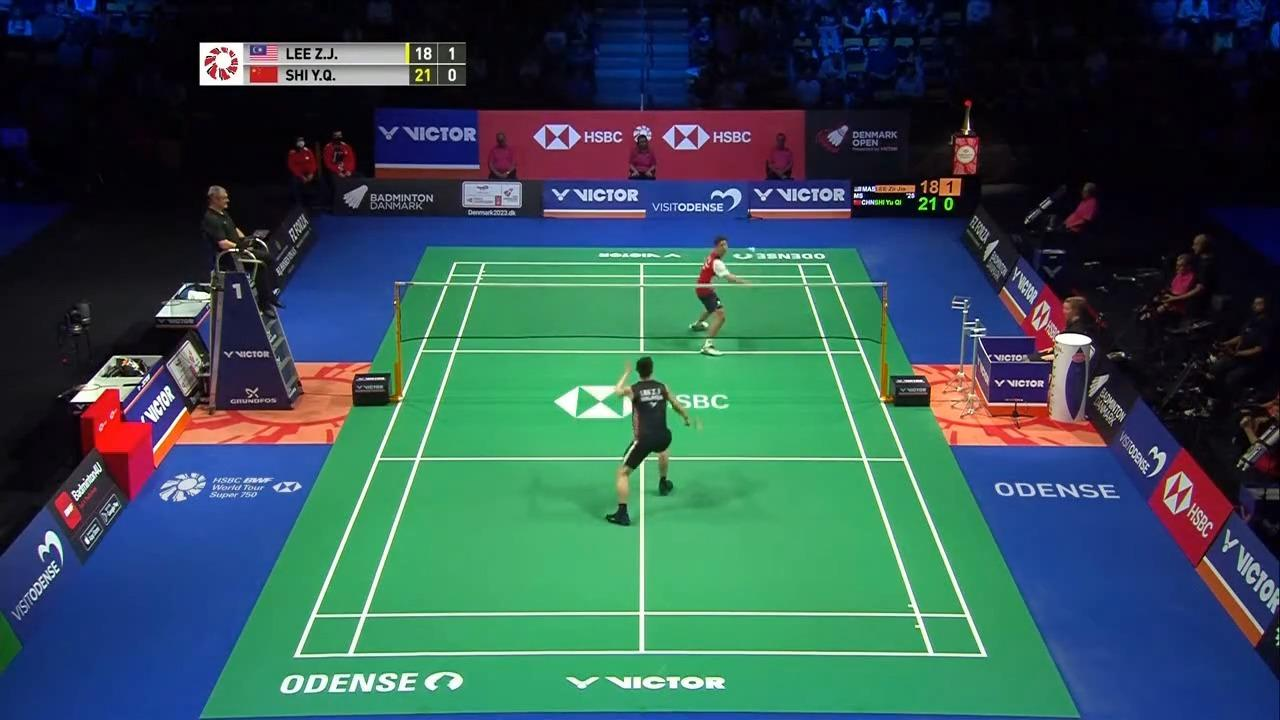shuttle: (750, 248, 757, 255)
